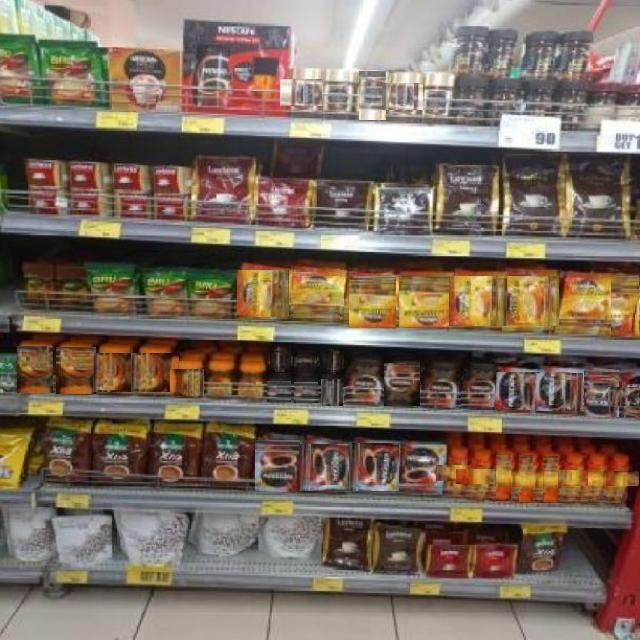Coffee: (560, 273, 613, 334), (499, 275, 561, 326), (449, 276, 507, 326), (398, 275, 452, 328), (291, 268, 340, 320), (348, 275, 396, 328), (347, 444, 401, 491), (237, 270, 289, 317), (254, 440, 300, 492), (299, 444, 349, 491), (400, 445, 444, 498), (55, 346, 96, 394), (130, 353, 179, 392), (92, 353, 139, 392), (535, 373, 583, 411), (611, 275, 639, 337), (17, 345, 53, 393), (496, 371, 540, 410), (461, 365, 498, 411), (346, 359, 383, 404), (423, 363, 458, 410), (584, 370, 619, 417), (384, 362, 420, 406), (423, 74, 451, 125), (323, 70, 352, 118), (358, 71, 386, 120), (281, 78, 329, 106), (381, 83, 430, 110), (238, 365, 266, 401), (206, 365, 234, 399), (171, 368, 204, 396), (588, 455, 606, 504), (435, 465, 482, 481), (495, 453, 511, 499), (551, 470, 597, 486), (457, 468, 502, 484), (543, 455, 558, 502), (597, 470, 640, 486), (519, 455, 533, 502), (269, 346, 291, 373), (607, 388, 640, 406), (321, 380, 343, 406), (321, 348, 342, 374), (293, 382, 318, 403), (267, 381, 291, 402), (294, 351, 317, 372)
